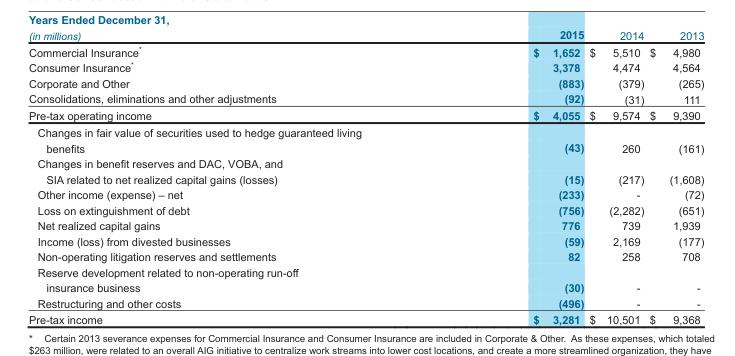table: (28, 28, 703, 325)
table column: (28, 28, 404, 325), (404, 28, 586, 325), (586, 28, 647, 325), (647, 28, 703, 325)
table column header: (28, 28, 703, 42)
table projected row header: (28, 123, 703, 139), (28, 155, 703, 170), (28, 264, 703, 279)
table row: (28, 42, 703, 59), (28, 106, 703, 123), (28, 59, 703, 75), (28, 90, 703, 106), (28, 123, 703, 139), (28, 139, 703, 155), (28, 170, 703, 186), (28, 201, 703, 217), (28, 232, 703, 248), (28, 248, 703, 264), (28, 279, 703, 295), (28, 75, 703, 90), (28, 155, 703, 170), (28, 186, 703, 201), (28, 217, 703, 232), (28, 264, 703, 279), (28, 295, 703, 310), (28, 310, 703, 325), (28, 28, 703, 42)
